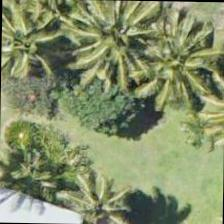Kelapa_Sawit: (131, 17, 223, 109), (74, 0, 166, 86), (0, 0, 69, 88), (52, 157, 144, 223), (12, 0, 104, 55)
